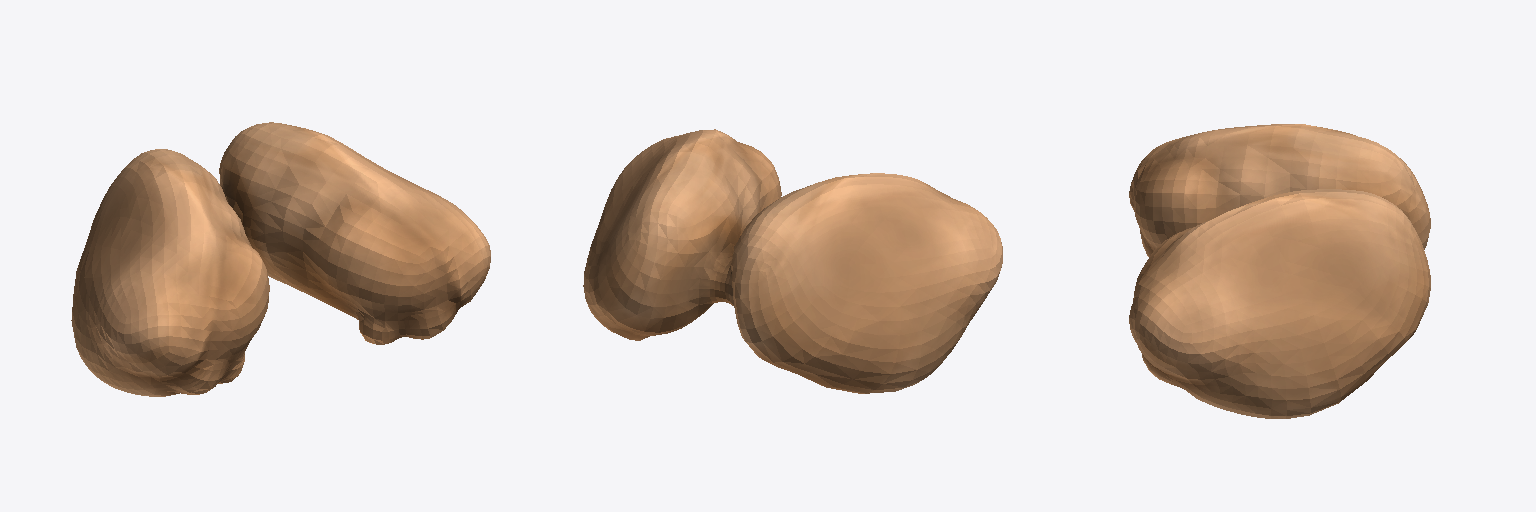
3 renders of one model, left to right at view 1: azimuth 30°, elevation 25°; view 2: azimuth 150°, elevation 25°; view 3: azimuth 270°, elevation 25°, orthographic.
Parts seen in each view (by area): view 1: Group56683; view 2: Group56683; view 3: Group56683.
Boxes of the visible parts, x1,y1,x2,y2 form: Group56683: [71, 122, 490, 396]; Group56683: [583, 129, 1002, 393]; Group56683: [1129, 124, 1430, 418].
Bounding box in the file's own units: 525 × 258 × 371.
1 materials, 1 textured.